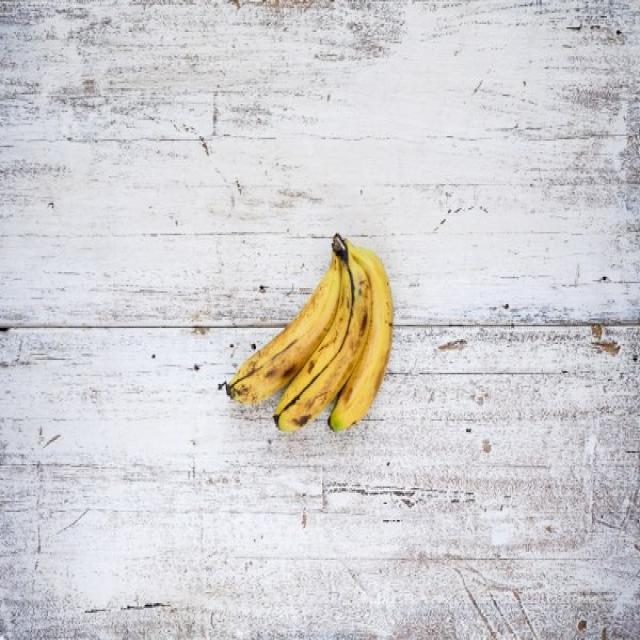banana: (219, 228, 399, 446)
